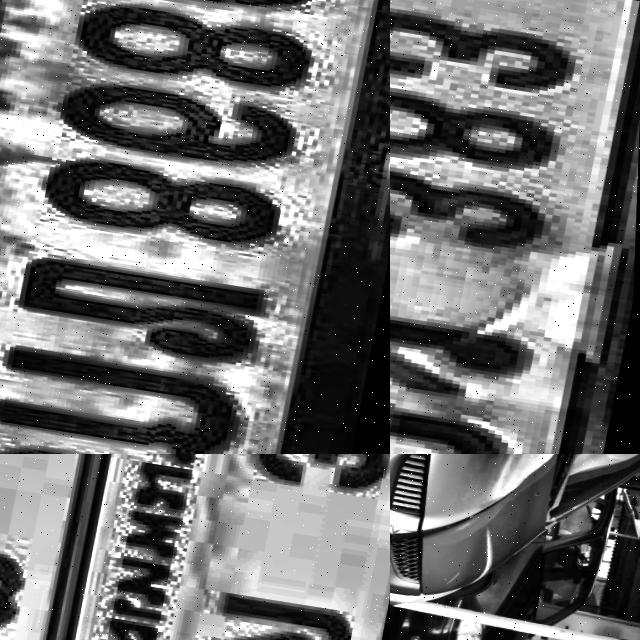license-plate: (0, 0, 390, 454), (390, 0, 640, 454), (35, 454, 390, 640), (0, 454, 148, 640)
